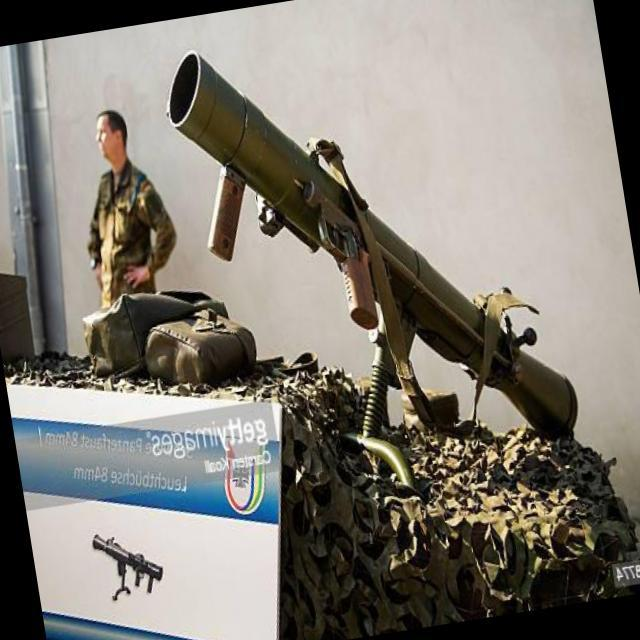rocket: (163, 12, 590, 494)
